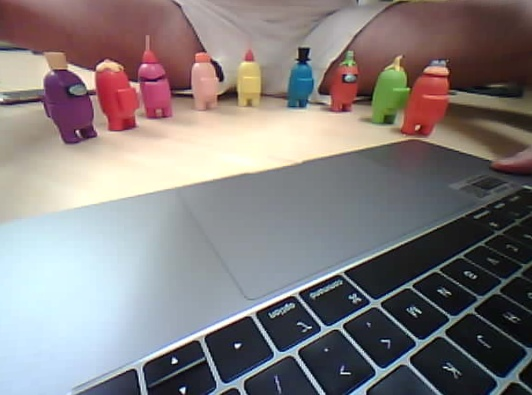alive: (40, 67, 101, 146), (398, 63, 452, 137), (95, 57, 143, 133), (370, 65, 410, 126), (137, 58, 175, 121), (328, 59, 360, 115), (189, 60, 222, 114), (284, 59, 315, 109), (236, 60, 265, 109)
